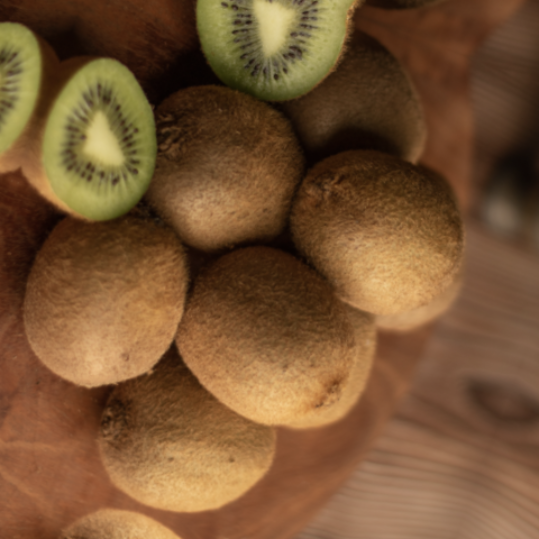kiwi: (0, 161, 222, 429), (158, 208, 397, 455), (106, 42, 336, 281), (271, 115, 503, 343), (59, 330, 299, 539)
